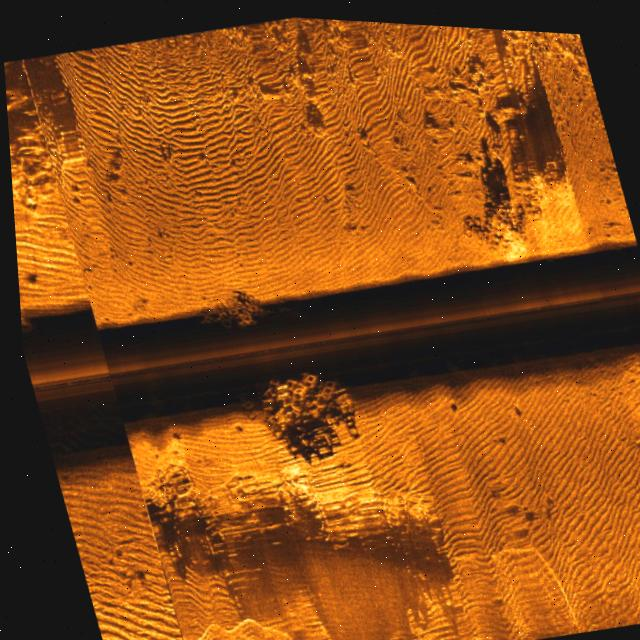artificial reef: (230, 353, 370, 458), (169, 266, 275, 343)
